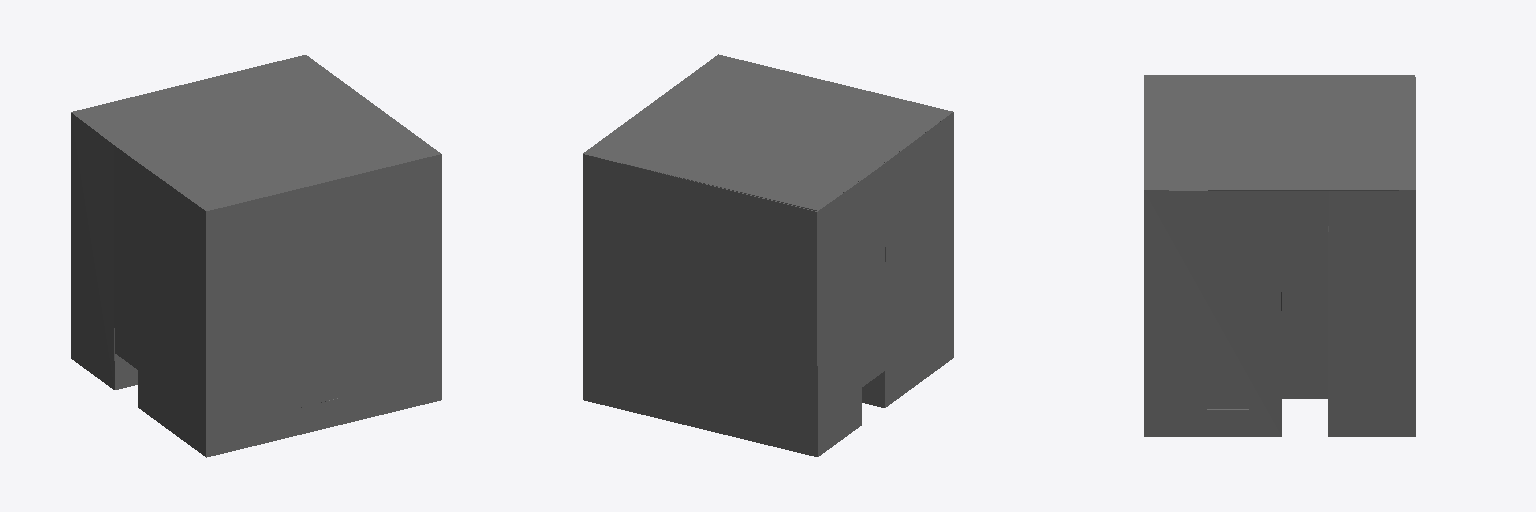
File: cubev2.obj
The picture shows the model from 3 angles: view 1: azimuth 30°, elevation 25°; view 2: azimuth 150°, elevation 25°; view 3: azimuth 270°, elevation 25°; orthographic projection.
Parts seen in each view (by area): view 1: Plane; view 2: Plane; view 3: Plane.
Part boxes in pixels (bbox=[...]): Plane: bbox=[71, 55, 441, 457]; Plane: bbox=[583, 54, 953, 456]; Plane: bbox=[1144, 75, 1415, 436].
Size of the model in its own units: 2.02 by 2.01 by 2.02.